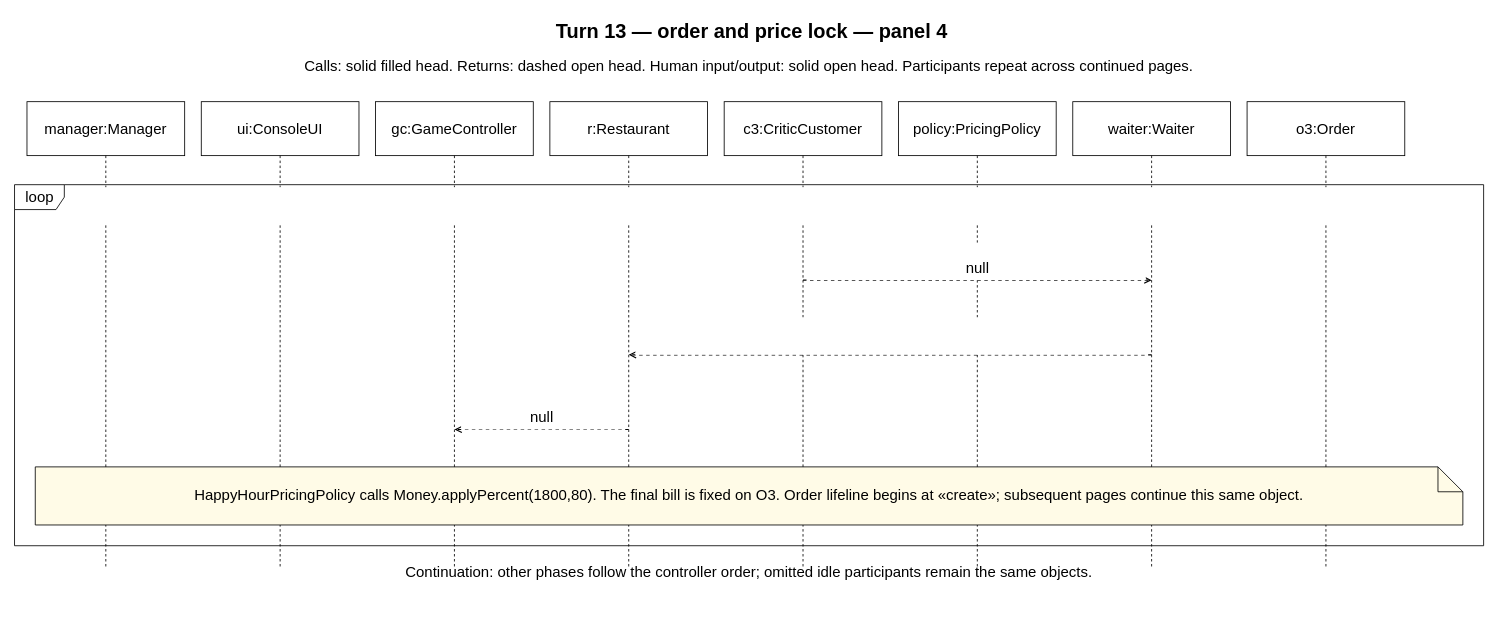
Image size: 1498x622. Some labels were removed from this diagram. Each missing label, with the box of its shape:
[for turn = 1..18; detail: turn 13 Waiter order] [continued]: (97, 187, 1471, 224)
null; Waiter task used: (635, 317, 1145, 354)
